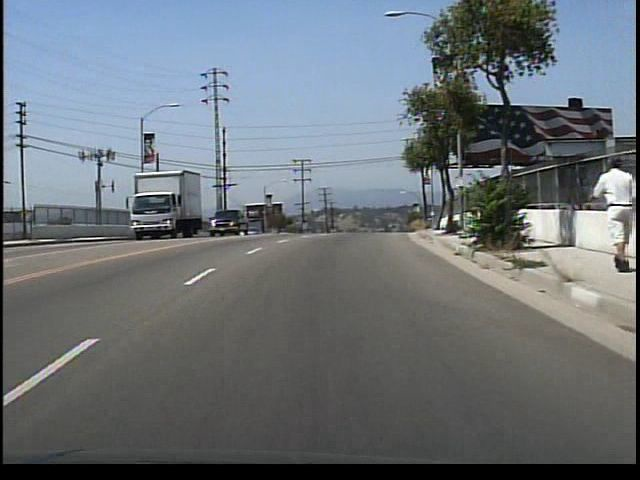person: (585, 151, 630, 274)
